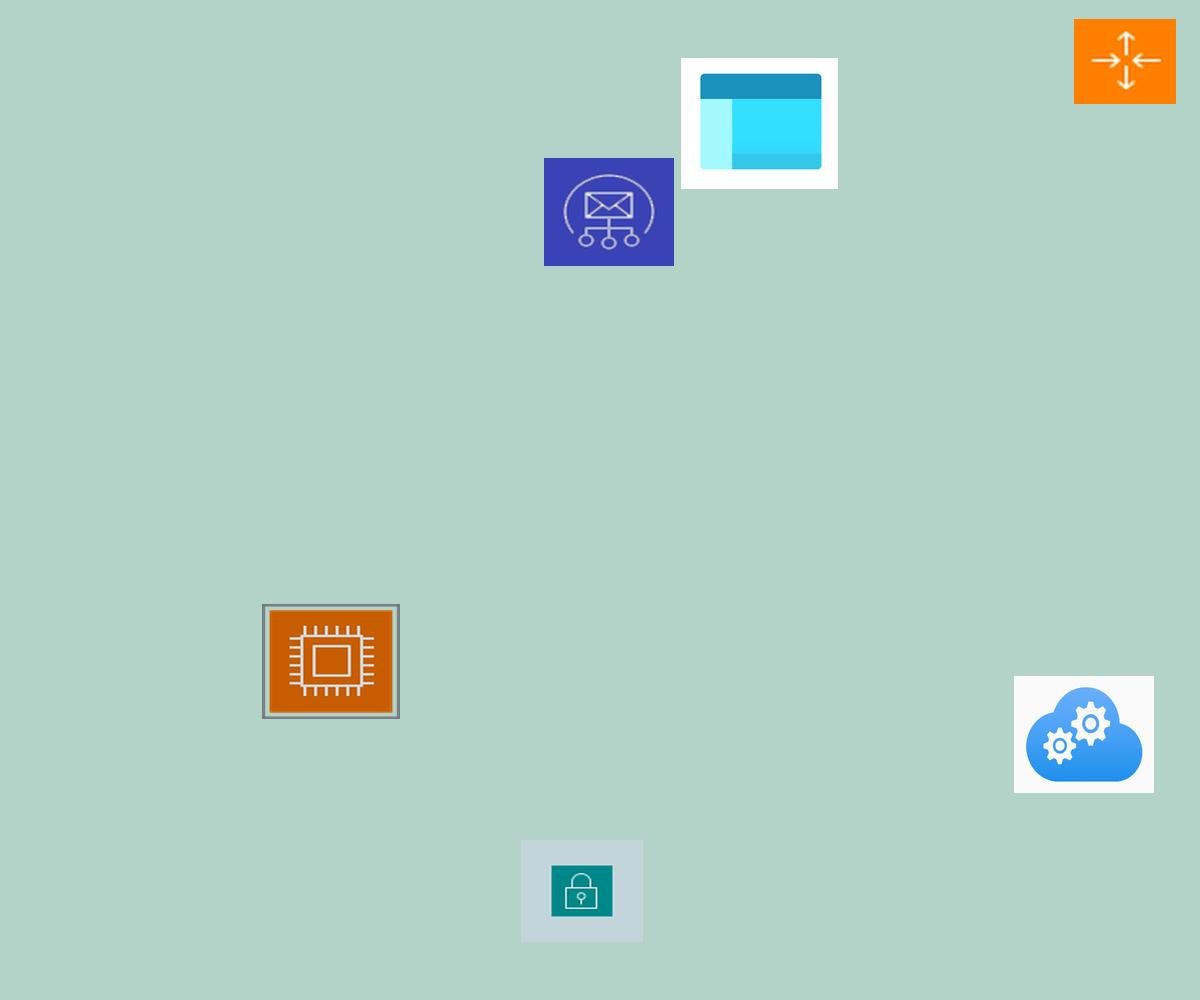AWS-Category_Compute: (262, 604, 400, 719)
AWS-Private-subnet: (521, 840, 643, 942)
AWS-Scaling-group: (1074, 19, 1176, 104)
AWS-Simple-Email-Service: (544, 158, 674, 266)
Azure_cloud_services: (1014, 676, 1154, 793)
Azure_management-portal: (681, 58, 838, 189)
